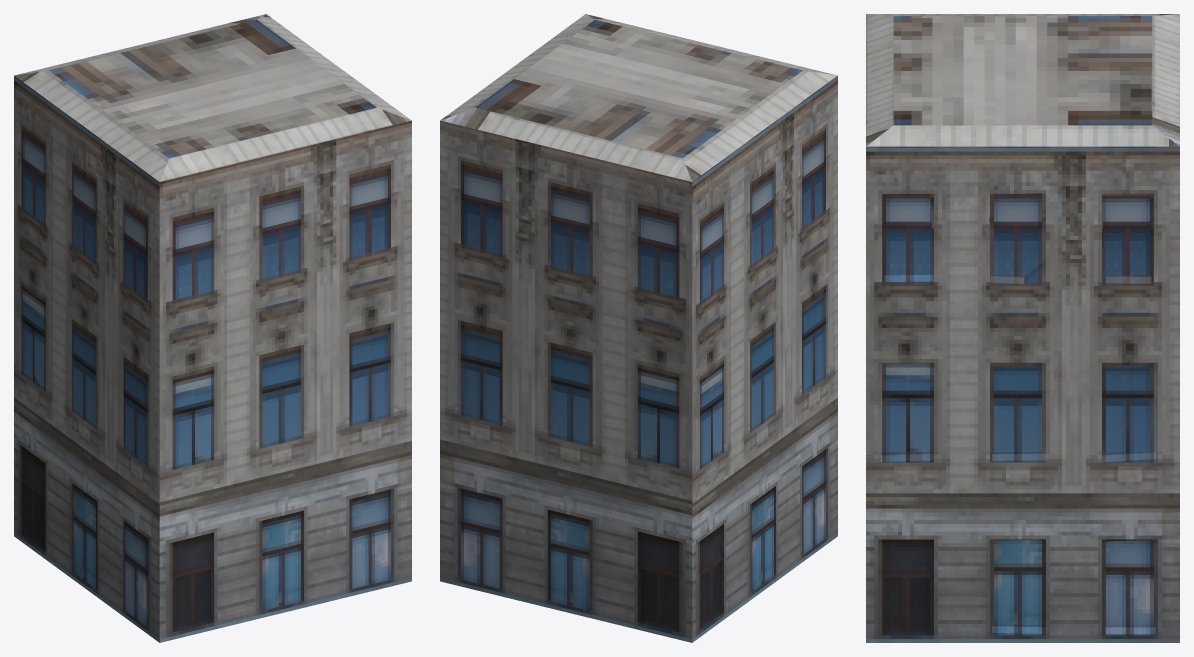
Rendered from House11.fbx.
3 views of the same model, side by side, from view 1: azimuth 30°, elevation 25°; view 2: azimuth 150°, elevation 25°; view 3: azimuth 270°, elevation 25° (orthographic). The views are drawn at different scales.
Parts seen in each view (by area): view 1: Cube; view 2: Cube; view 3: Cube.
Part boxes in pixels (x1=…): Cube: x1=14, y1=14, x2=411, y2=642; Cube: x1=440, y1=14, x2=837, y2=642; Cube: x1=866, y1=14, x2=1179, y2=642.
Bounding box in the file's own units: 868 × 1545 × 868.
1 material, 1 textured.
